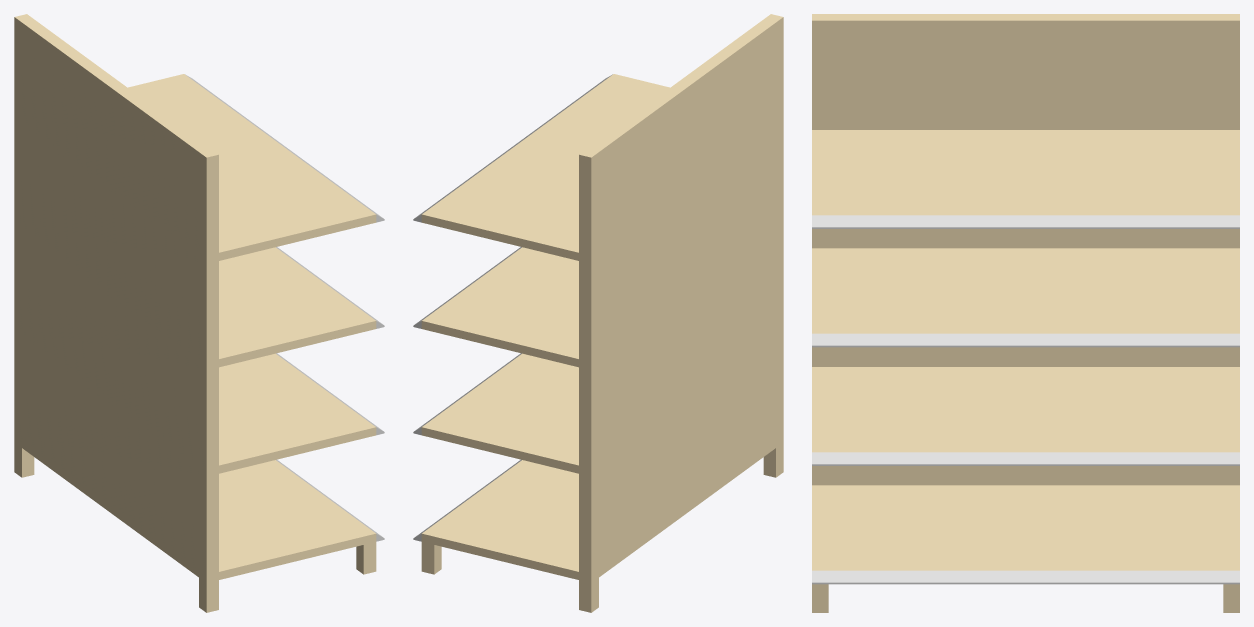
File: groceryshelf.fbx
The picture shows the model from 3 angles, left to right: view 1: azimuth 30°, elevation 25°; view 2: azimuth 150°, elevation 25°; view 3: azimuth 270°, elevation 25°; orthographic projection. The views are drawn at different scales.
Parts seen in each view (by area): view 1: Shelf, Legs; view 2: Shelf, Legs; view 3: Shelf, Legs.
Part boxes in pixels (bbox=[...]): Shelf: bbox=[14, 14, 384, 582]; Legs: bbox=[14, 442, 376, 612]; Shelf: bbox=[413, 14, 783, 582]; Legs: bbox=[421, 442, 783, 612]; Shelf: bbox=[812, 14, 1239, 584]; Legs: bbox=[812, 584, 1239, 612].
Size of the model in its own units: 210 by 513 by 392.
